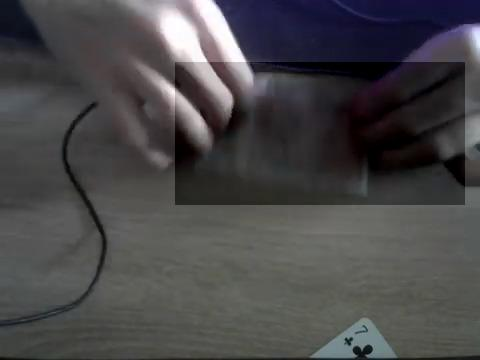5leva: (175, 62, 465, 205)
